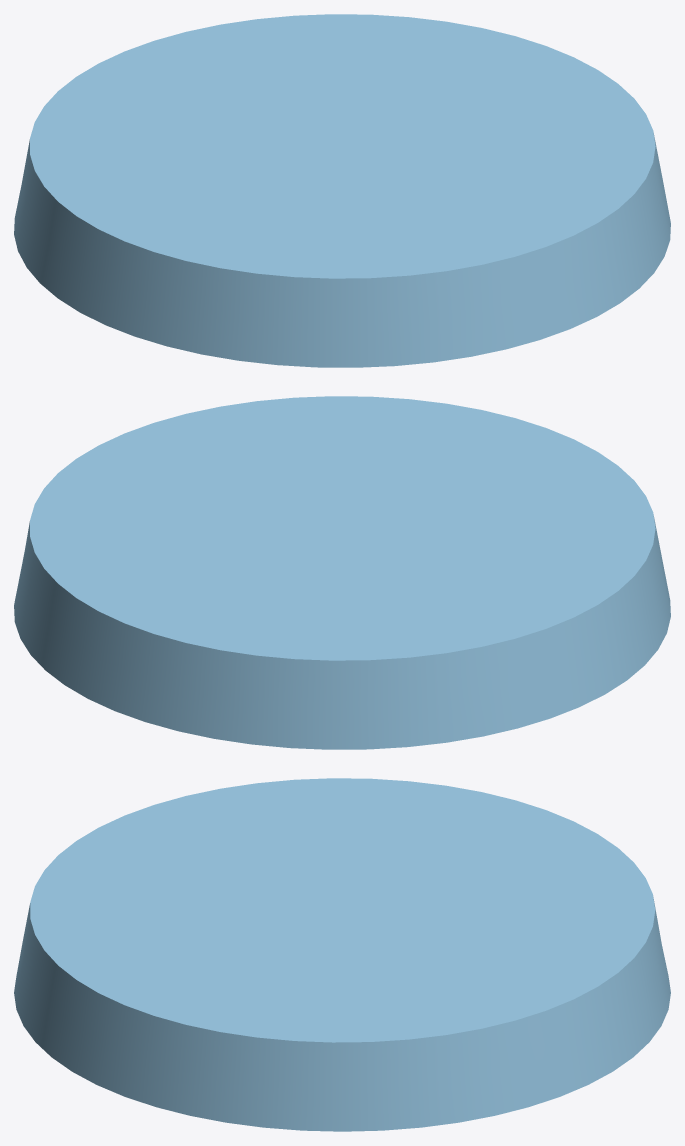
The model's file is 105_tapa_corcho.glb.
3 views of the same model, one above another, from view 1: azimuth 30°, elevation 25°; view 2: azimuth 150°, elevation 25°; view 3: azimuth 270°, elevation 25° (orthographic).
Parts seen in each view (by area): view 1: Part 1; view 2: Part 1; view 3: Part 1.
Boxes of the visible parts, <box> form: Part 1: <box>14,14,670,367</box>; Part 1: <box>14,396,670,749</box>; Part 1: <box>14,778,670,1131</box>.
Bounding box in the file's own units: 0.1083 × 0.015 × 0.1083.
